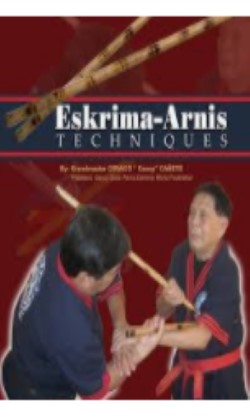baston_e: (29, 20, 224, 126), (65, 189, 179, 312), (148, 320, 200, 338)
baston_v: (117, 321, 143, 343), (50, 176, 69, 204), (179, 293, 199, 316), (1, 107, 14, 130), (8, 129, 23, 143)
